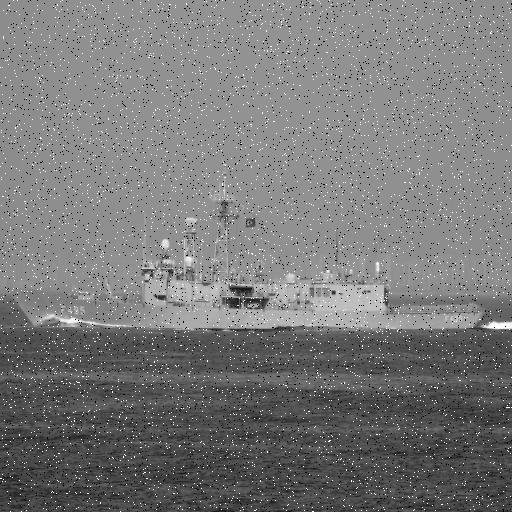Fragata: (7, 162, 486, 336)
